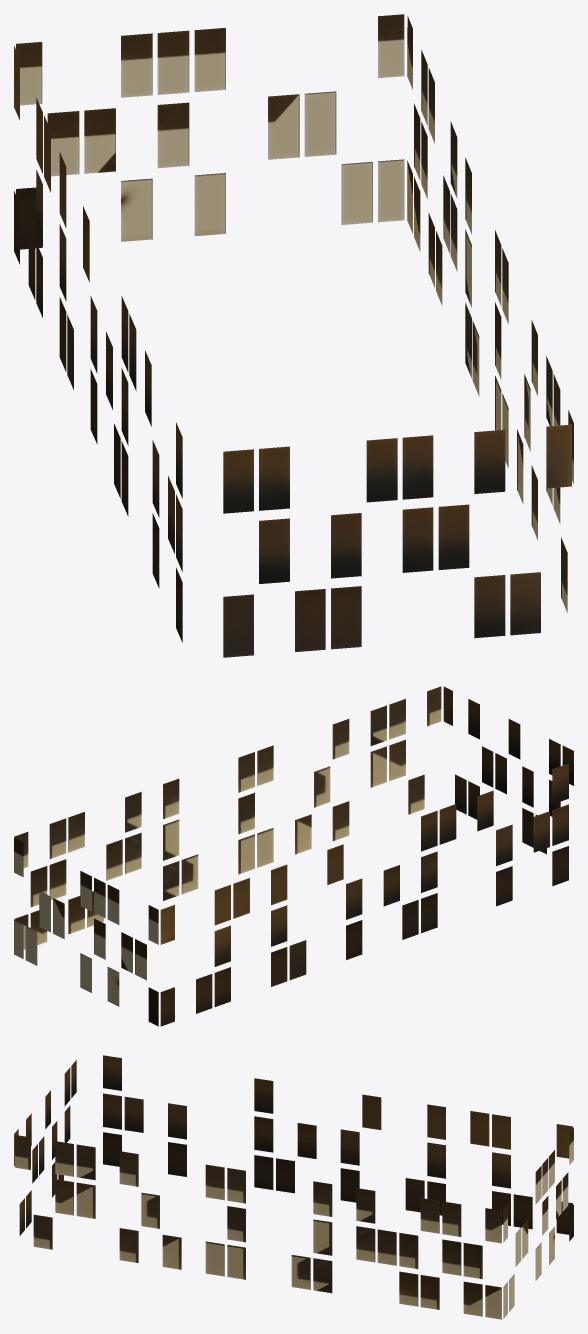
The model's file is Building_06_Glass.fbx.
The picture shows the model from 3 angles, top to bottom: view 1: azimuth 30°, elevation 25°; view 2: azimuth 150°, elevation 25°; view 3: azimuth 270°, elevation 25°; orthographic projection. The views are drawn at different scales.
Visible parts, largest first — view 1: Building_06_Glass; view 2: Building_06_Glass; view 3: Building_06_Glass.
Boxes of the visible parts, box(x1,y1,x2,y2) form: Building_06_Glass: box(14, 14, 573, 657); Building_06_Glass: box(14, 686, 573, 1026); Building_06_Glass: box(14, 1055, 573, 1319).
Size of the model in its own units: 26.31 by 8.62 by 40.1.
Materials: 1 (1 with a texture image).
